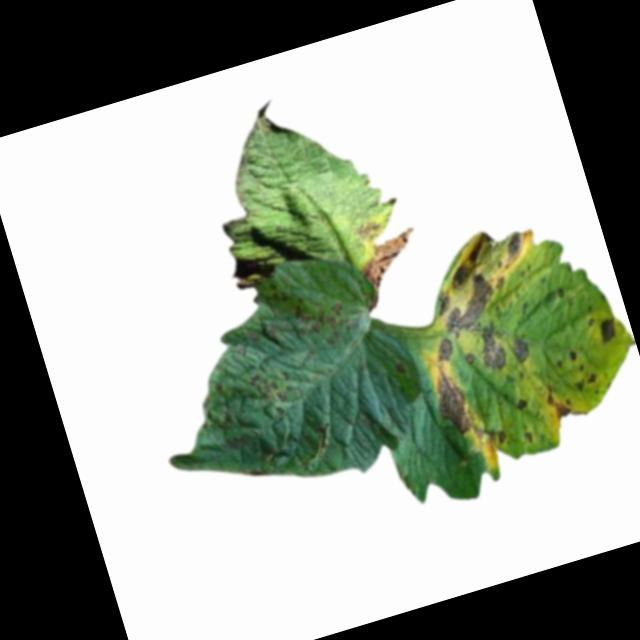Early_blight: (415, 217, 554, 341), (353, 228, 431, 310), (287, 286, 363, 350), (425, 360, 481, 439), (249, 360, 302, 419), (473, 321, 512, 375), (543, 382, 575, 422), (431, 333, 458, 365), (571, 370, 602, 396), (595, 314, 621, 343), (510, 334, 535, 364), (356, 218, 381, 241), (493, 425, 510, 446), (565, 345, 581, 363), (514, 394, 530, 410), (392, 358, 408, 374), (523, 427, 536, 444), (465, 350, 475, 363)
